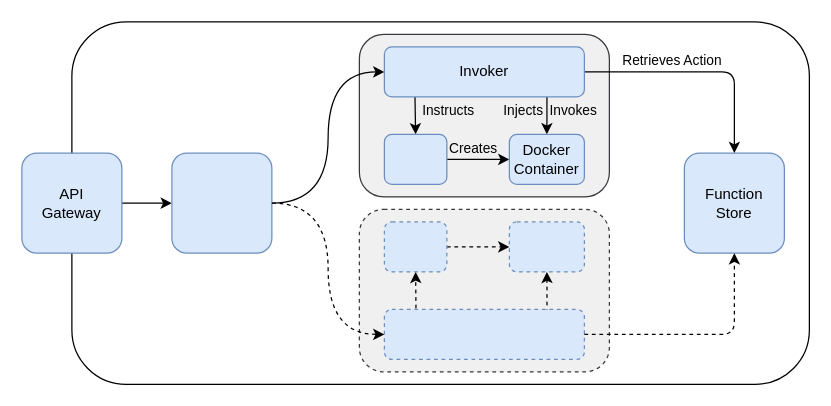
This 831x406 diagram has some shape labels left out. Each missing label, with the centre of its shape:
Docker Daemon: pixel 415 158
Load Balancer: pixel 221 202
